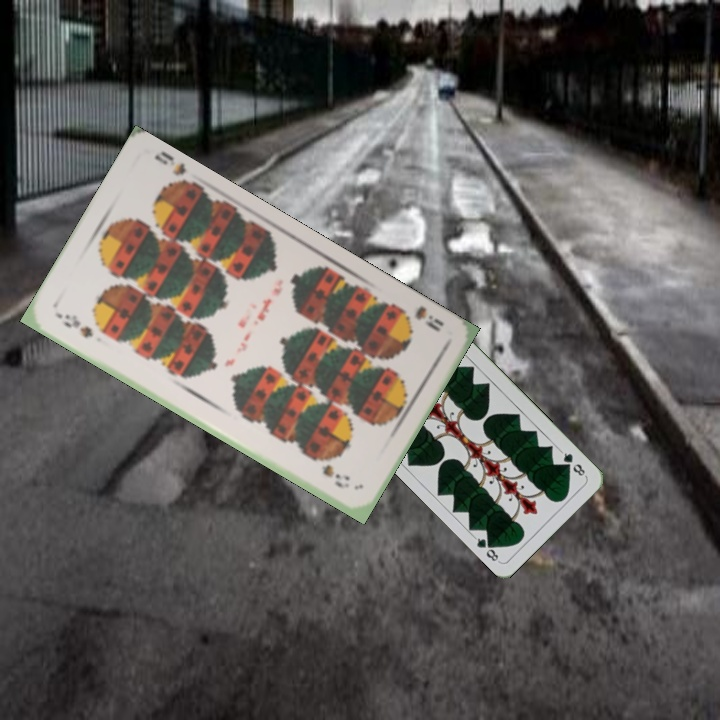G8: (557, 447, 589, 479)
S9: (394, 302, 446, 335), (59, 310, 96, 341)
